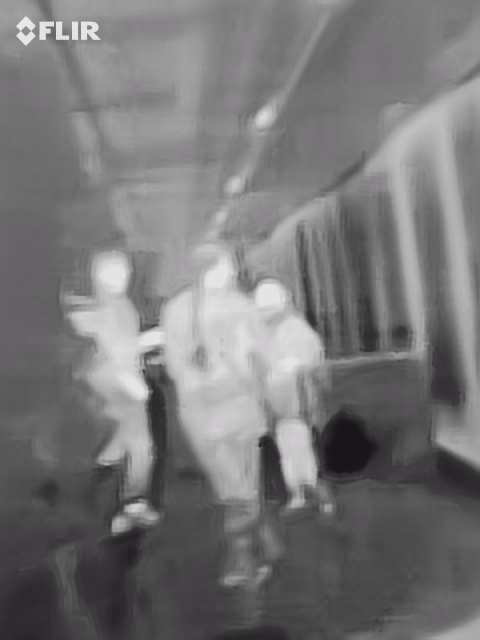head: (89, 250, 135, 297), (254, 274, 296, 322), (189, 246, 235, 288)
